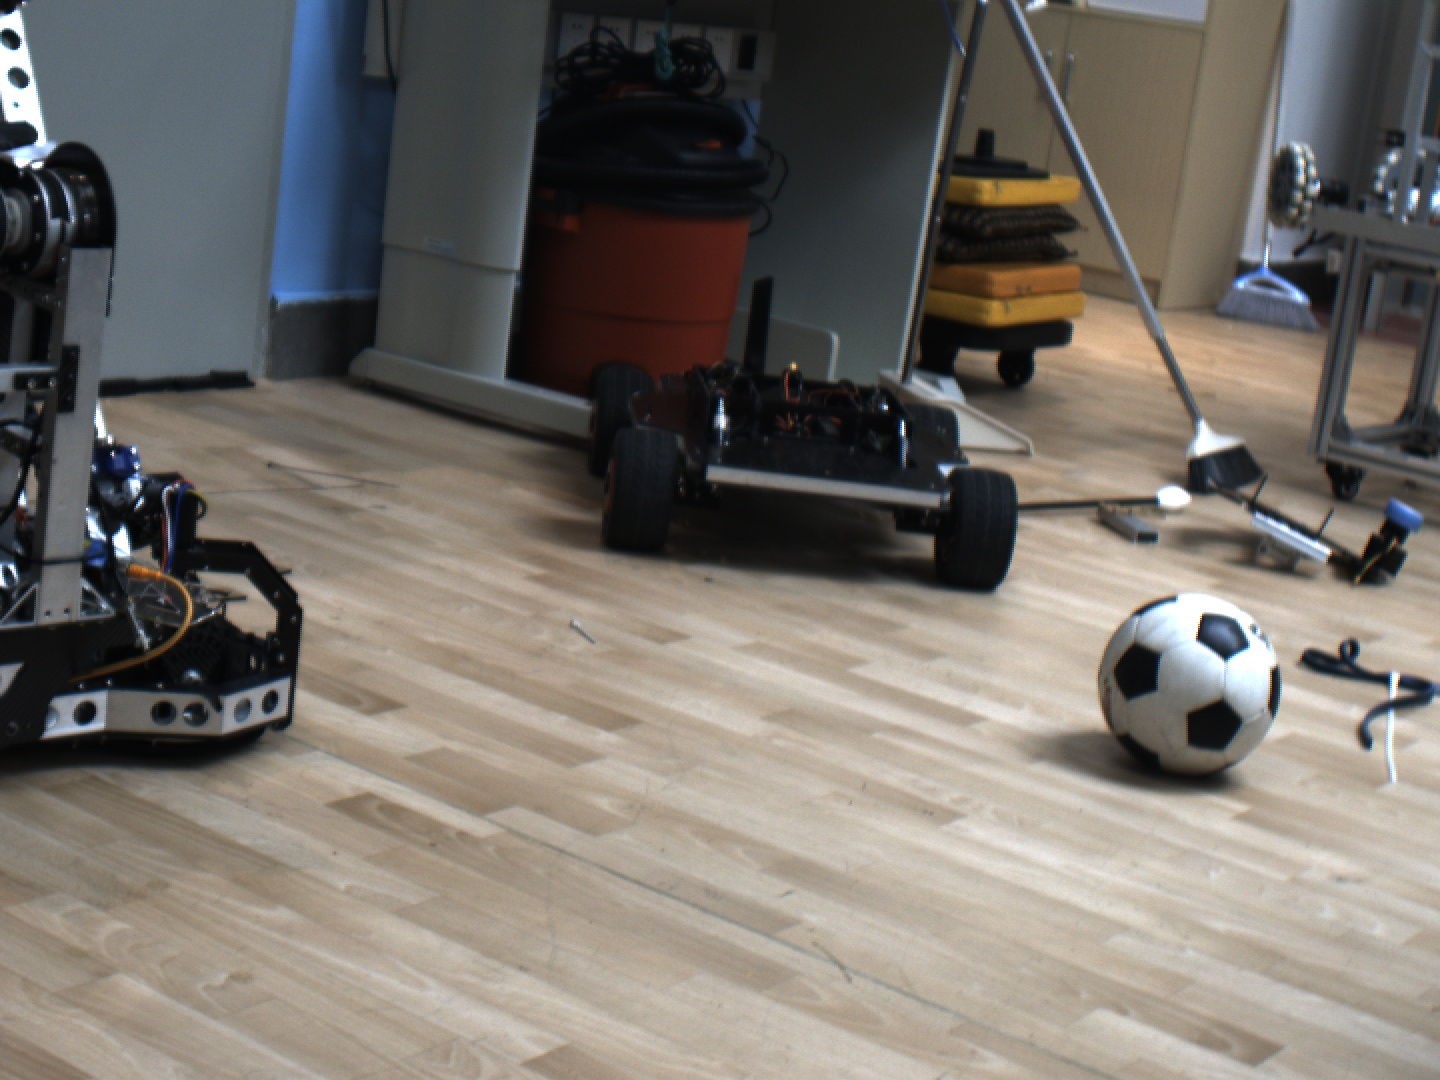ball: (1090, 573, 1295, 788)
